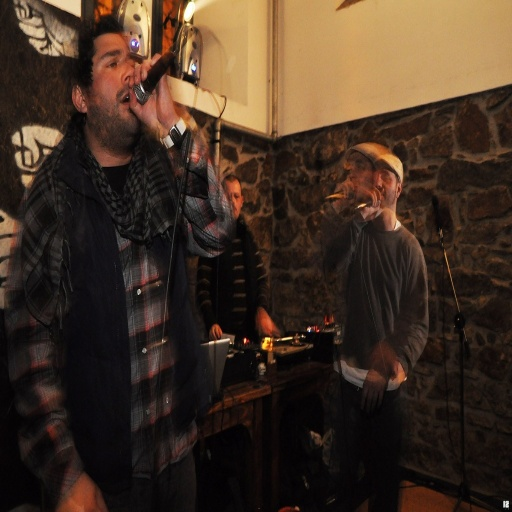hand: (134, 64, 178, 130), (57, 473, 108, 510), (359, 365, 385, 423), (256, 311, 274, 335), (208, 324, 224, 338)
